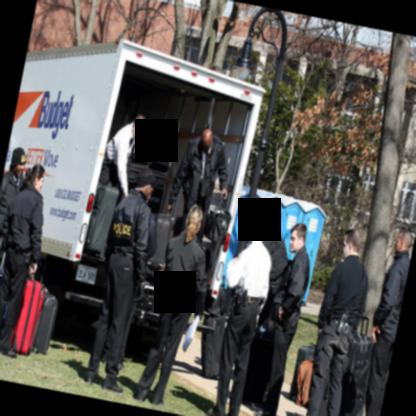suitcase: (340, 314, 373, 416), (8, 279, 42, 359), (82, 183, 117, 258), (32, 284, 57, 354), (288, 341, 316, 401), (201, 313, 226, 379), (147, 213, 173, 272), (295, 359, 314, 406), (317, 365, 329, 416)
